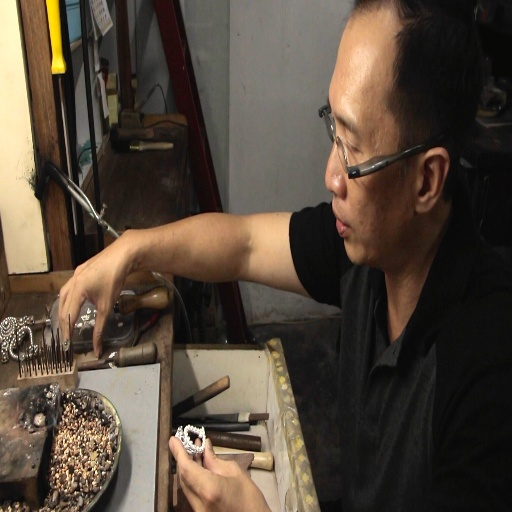hand: (55, 235, 129, 360), (165, 421, 267, 502)
